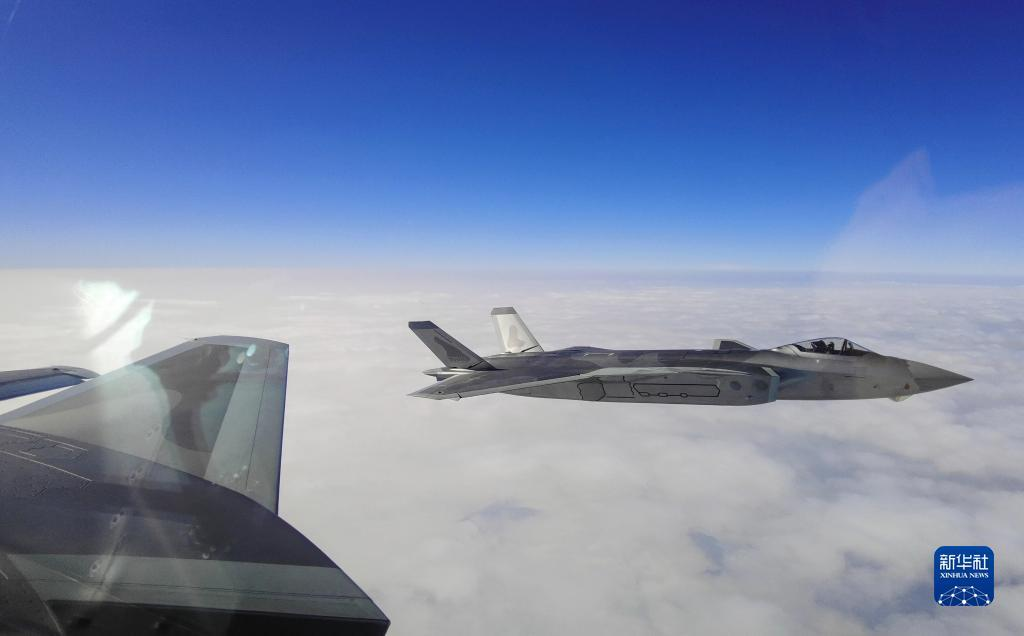J20: (404, 306, 975, 407)
